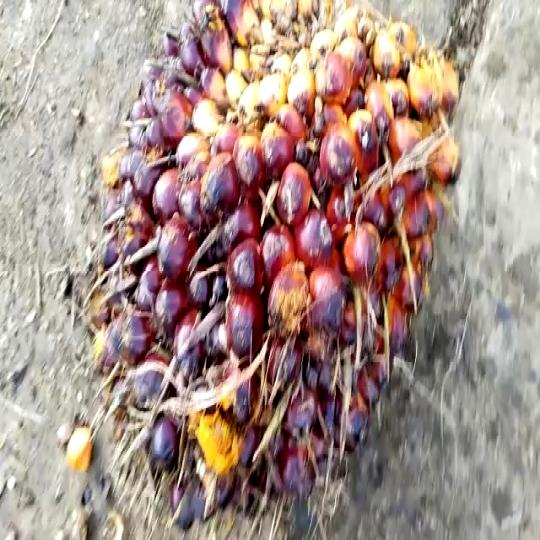kurang masak: (84, 5, 468, 516)
